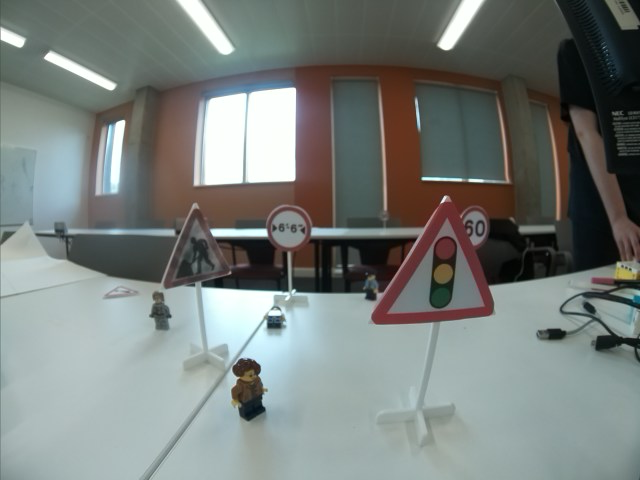60mph: (458, 207, 490, 249)
6ft6: (266, 204, 312, 249)
Lego Man: (231, 355, 267, 423), (144, 290, 174, 330), (360, 268, 383, 301), (263, 303, 287, 329)
Roadworks: (162, 208, 234, 289)
Traffic lights: (373, 206, 491, 323)
Warning: (100, 283, 137, 302)
